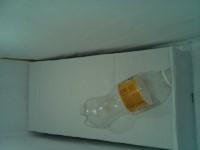bottle: (78, 66, 171, 130)
